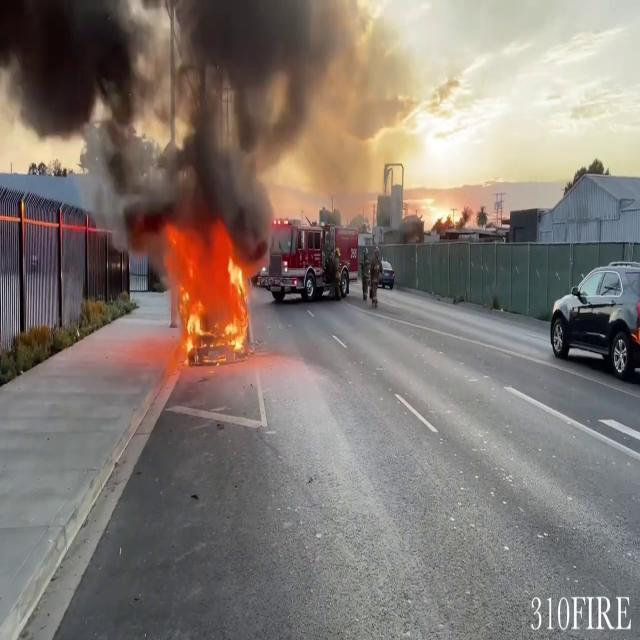Fire: (162, 224, 254, 356)
Smoke: (0, 0, 317, 239)
